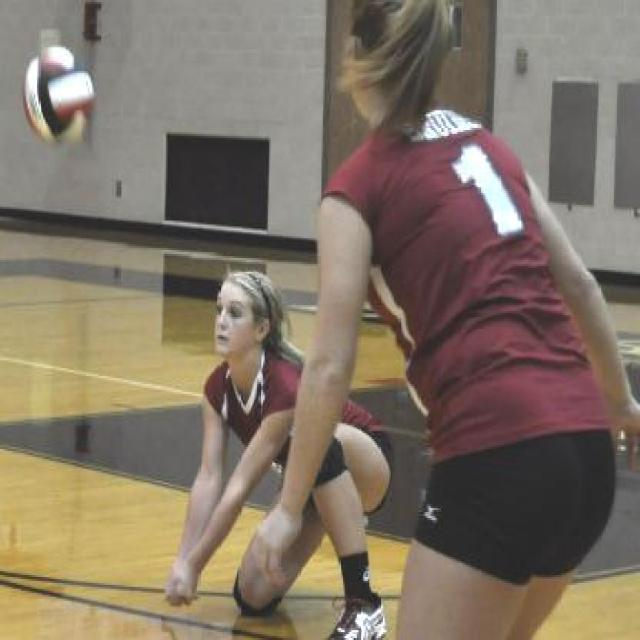volleyball: (22, 45, 95, 146)
